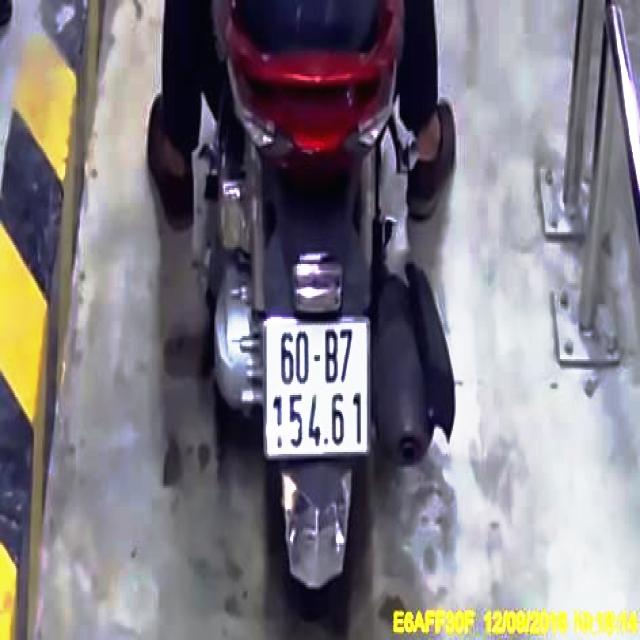license_plate: (267, 320, 371, 457)
